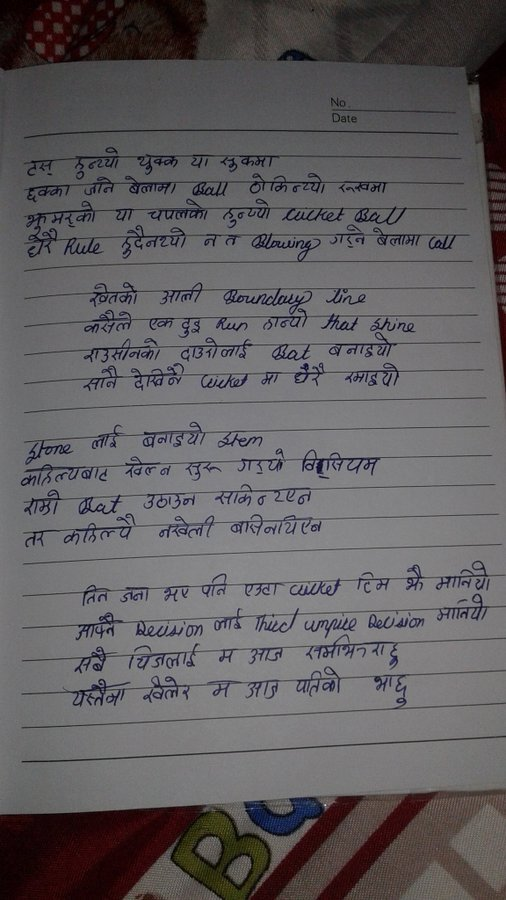text: (302, 635, 401, 669), (296, 446, 382, 479), (16, 461, 112, 487), (229, 512, 325, 538), (220, 287, 310, 314), (214, 483, 315, 507), (22, 200, 99, 230), (61, 515, 137, 545), (118, 226, 189, 258), (249, 233, 321, 263), (127, 642, 201, 671), (66, 678, 130, 711), (245, 172, 327, 197), (82, 338, 164, 363), (141, 421, 207, 450), (435, 559, 493, 592), (434, 593, 491, 625), (291, 666, 345, 699), (179, 338, 252, 362), (328, 333, 397, 358), (157, 515, 219, 542), (344, 363, 402, 391), (129, 364, 186, 392), (234, 447, 291, 475), (221, 198, 271, 229), (71, 145, 119, 177), (142, 675, 193, 705), (86, 281, 139, 309), (132, 618, 206, 638), (369, 673, 410, 709), (74, 612, 123, 641), (302, 614, 362, 637), (82, 309, 132, 336), (363, 609, 427, 630), (24, 438, 75, 464), (145, 200, 208, 221), (353, 203, 408, 227), (141, 488, 198, 511), (121, 455, 173, 480), (252, 606, 300, 633), (219, 152, 281, 172), (133, 150, 182, 175), (372, 226, 423, 250), (154, 282, 205, 306), (23, 490, 65, 519), (123, 174, 178, 196), (262, 308, 309, 333), (282, 206, 347, 224), (287, 578, 342, 599), (74, 646, 113, 675), (74, 494, 123, 517), (82, 365, 123, 392), (61, 235, 107, 259), (351, 570, 393, 596), (196, 371, 251, 390), (215, 431, 265, 451), (267, 340, 312, 362), (24, 230, 59, 258), (90, 424, 123, 453), (336, 179, 389, 197), (206, 676, 241, 703), (24, 182, 71, 202), (240, 579, 282, 601), (290, 363, 328, 387), (243, 677, 281, 701), (198, 572, 231, 599), (212, 607, 245, 634), (190, 176, 232, 197), (323, 288, 367, 308), (328, 227, 369, 248), (319, 312, 360, 333), (183, 461, 224, 482), (79, 582, 112, 608), (369, 317, 419, 334), (20, 526, 54, 551), (401, 563, 426, 595), (245, 646, 285, 666), (24, 157, 57, 180), (119, 583, 151, 606), (82, 177, 117, 197), (213, 315, 249, 334), (159, 584, 192, 604), (427, 233, 457, 253), (176, 316, 202, 338), (187, 152, 216, 170), (146, 315, 175, 333), (259, 368, 282, 387), (216, 647, 239, 664), (200, 231, 220, 250), (111, 207, 136, 222), (222, 233, 241, 249)
